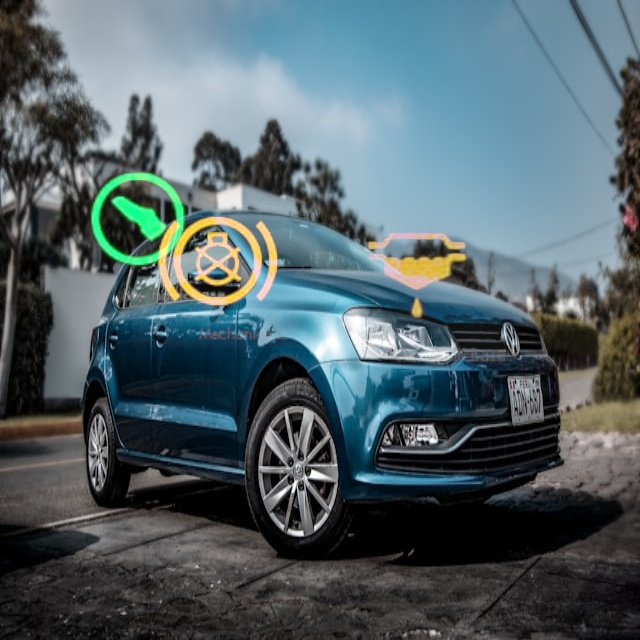symbol: (323, 181, 513, 371), (52, 130, 232, 310), (132, 177, 303, 348)
